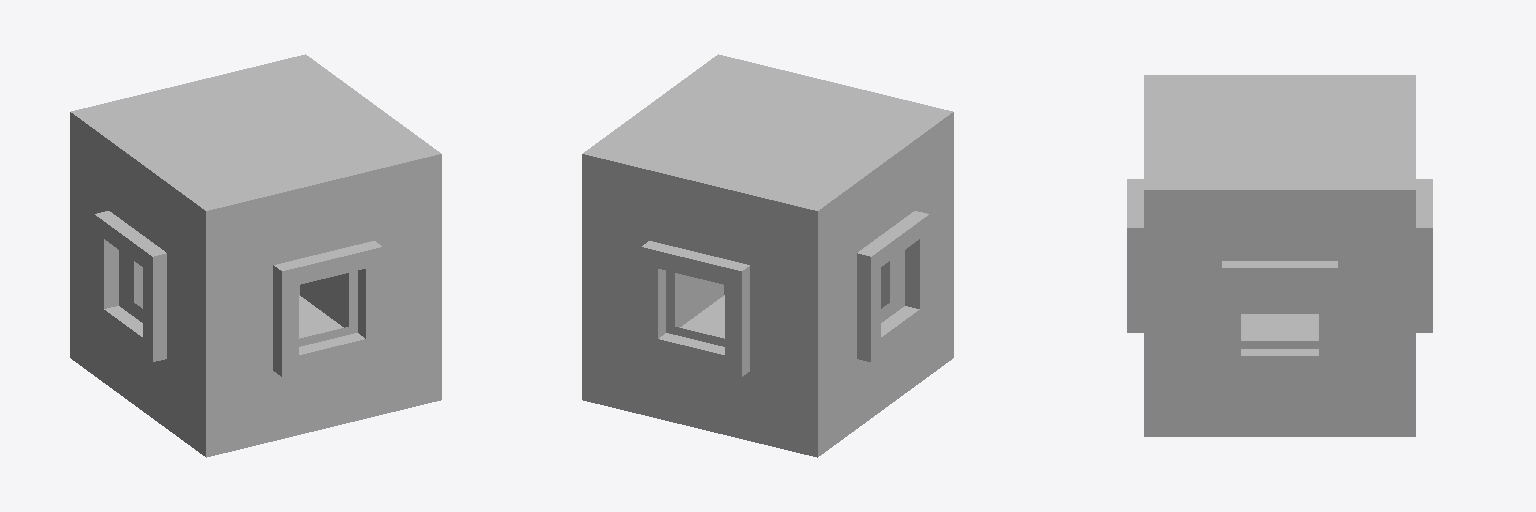
Rendered from ModelPressureChamberCore_Rough.obj.
The picture shows the model from 3 angles: view 1: azimuth 30°, elevation 25°; view 2: azimuth 150°, elevation 25°; view 3: azimuth 270°, elevation 25°; orthographic projection.
Visible parts, largest first — view 1: g pCube1; view 2: g pCube1; view 3: g pCube1.
Boxes of the visible parts, x1=… form: g pCube1: x1=70, y1=54, x2=441, y2=457; g pCube1: x1=582, y1=54, x2=953, y2=457; g pCube1: x1=1127, y1=75, x2=1432, y2=436.
Size of the model in its own units: 0.985 by 0.875 by 0.9847.